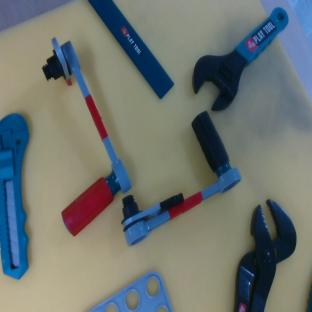non_pass: (89, 110, 247, 248)
pass: (0, 33, 141, 237)
